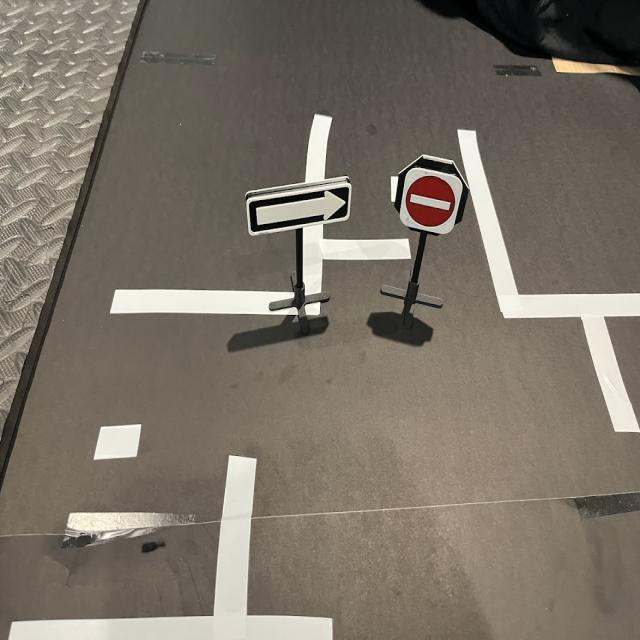sign_noentry: (399, 167, 466, 242)
sign_oneway_right: (246, 173, 354, 237)
